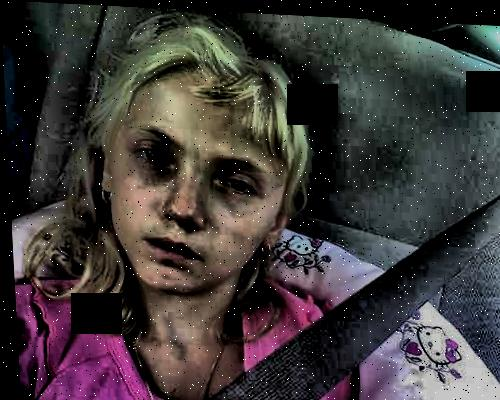seatbelt: (229, 176, 500, 400)
